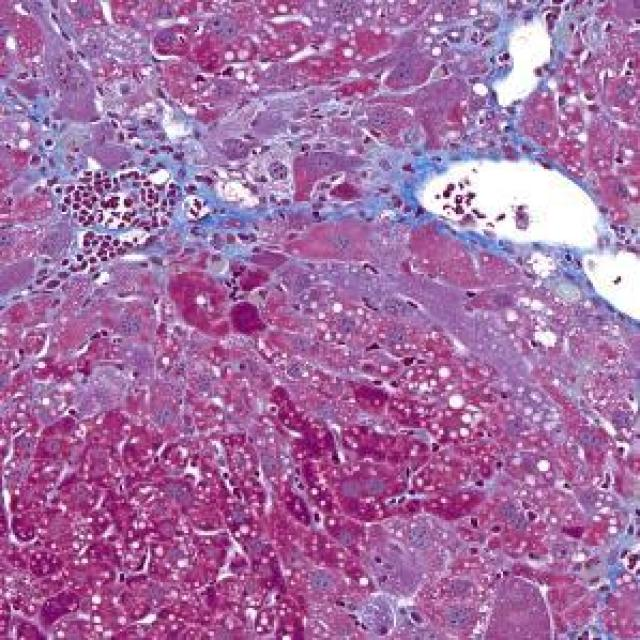fibrosis: (15, 83, 293, 272)
